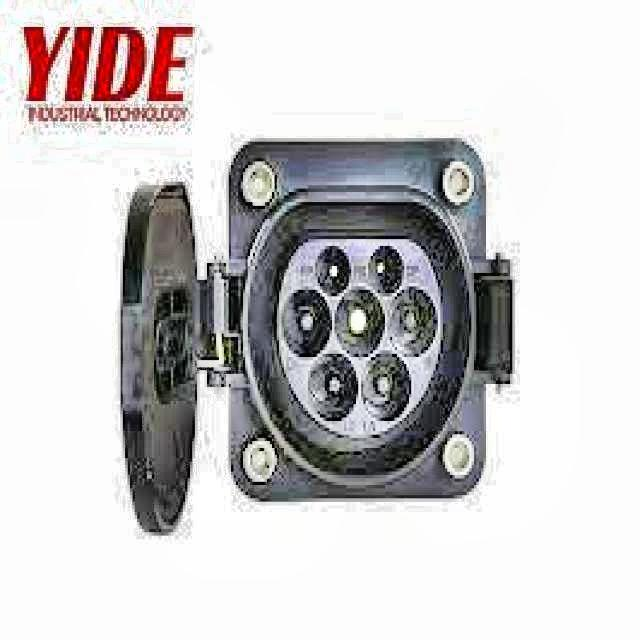inlet: (276, 239, 443, 439)
inlet-above-left: (316, 246, 351, 296)
inlet-above-right: (368, 246, 404, 298)
inlet-below-left: (310, 353, 358, 424)
inlet-below-right: (363, 350, 411, 422)
inlet-center: (334, 289, 385, 358)
inlet-center-left: (282, 289, 332, 358)
inlet-center-right: (389, 287, 439, 357)
